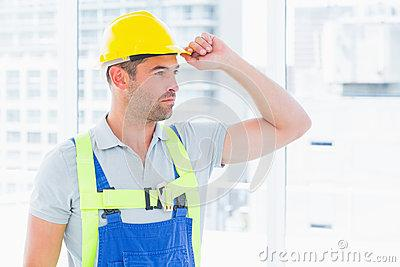helmet: (100, 11, 193, 61)
